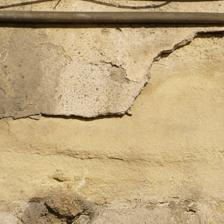Crack: (40, 83, 103, 142), (126, 54, 150, 144)
